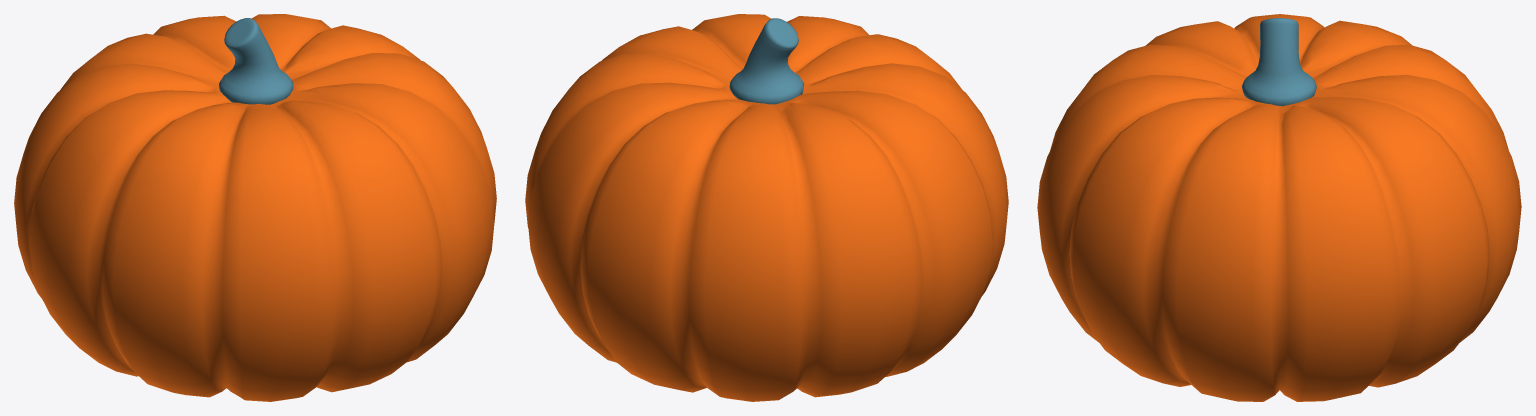
The model's file is 01_Pumpkin.fbx.
The picture shows the model from 3 angles, left to right: view 1: azimuth 30°, elevation 25°; view 2: azimuth 150°, elevation 25°; view 3: azimuth 270°, elevation 25°; orthographic projection.
Visible parts, largest first — view 1: Pumpkin_middle; view 2: Pumpkin_middle; view 3: Pumpkin_middle.
Part boxes in pixels (x1,y1,x2,y2): Pumpkin_middle: (14,14,496,401); Pumpkin_middle: (525,14,1008,401); Pumpkin_middle: (1037,14,1521,401).
Bounding box in the file's own units: 11.29 × 8.35 × 11.3.
